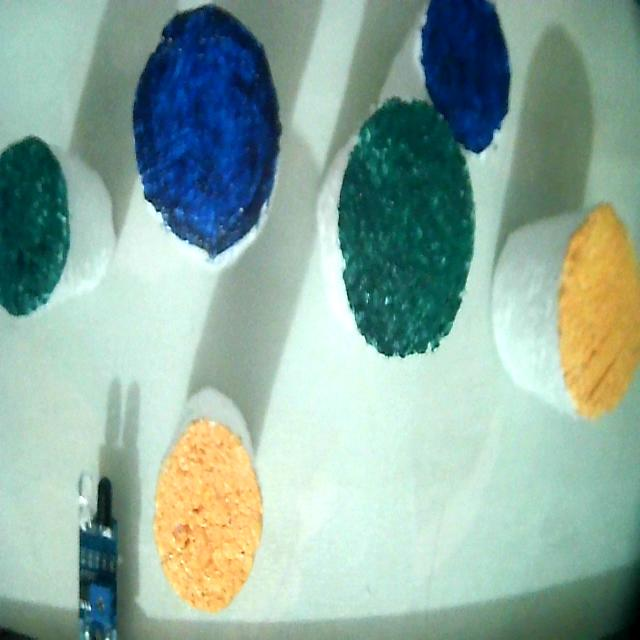blue: (133, 7, 280, 258), (420, 0, 510, 153), (0, 137, 70, 315)
green: (339, 101, 473, 356), (0, 139, 69, 315)
yellow: (154, 423, 262, 611), (560, 205, 639, 418)
